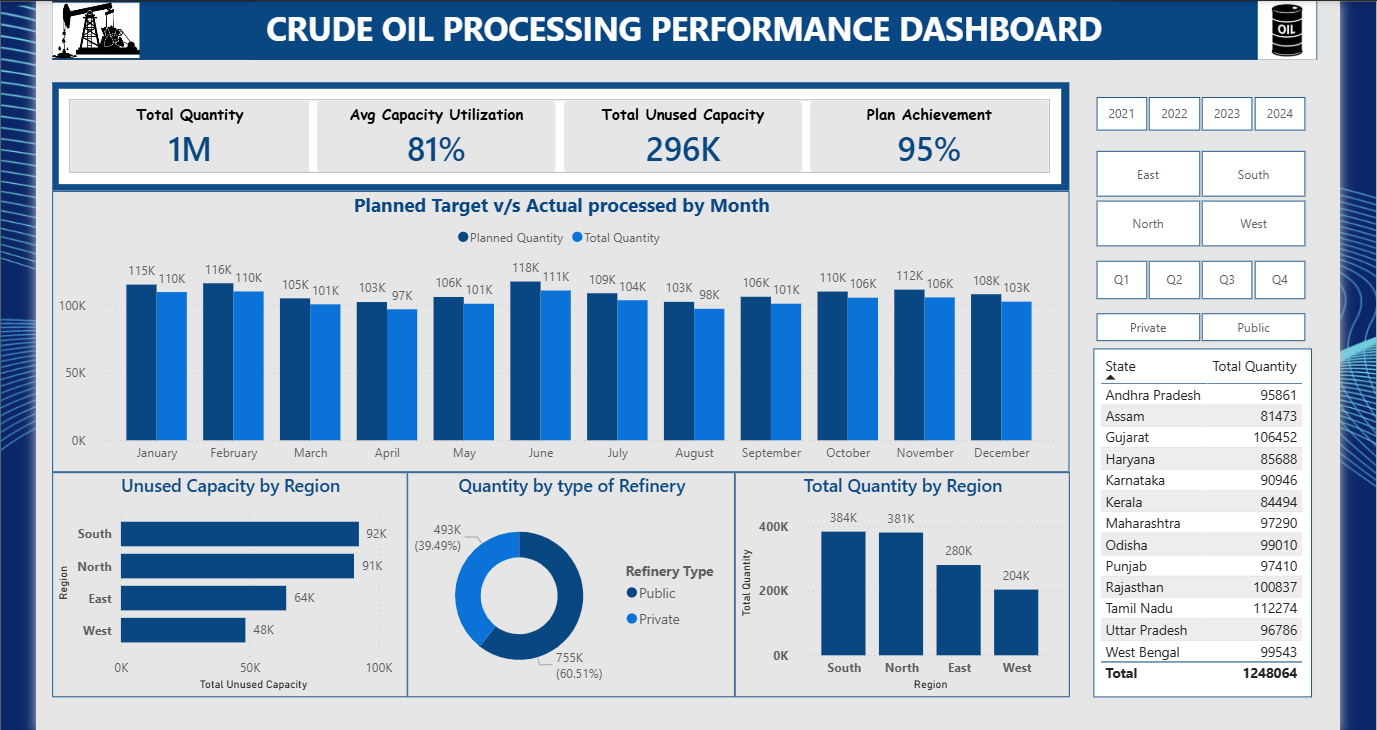

Layout of this report page (visuals, bound fields, positions):
{"tool":"powerbi","page":{"name":"Page 6","canvas":[1280,720],"ordinal":5},"visuals":[{"type":"clusteredColumnChart","title":"Planned Target v/s Actual processed by Month","fields":{"Category":["Crudeoil Data.Month Name"],"Y":["Sum(Crudeoil Data.Planned Quantity (000 Metric Tonnes))","Crudeoil Data.Total Quantity"]},"box":[16,186.5,998.8,276.1],"z":0},{"type":"donutChart","title":"Quantity by type of Refinery","fields":{"Category":["Crudeoil Data.Refinery Type"],"Y":["Crudeoil Data.Total Quantity"]},"box":[364.4,462.6,321.5,220.9],"z":1000},{"type":"slicer","fields":{"Values":["Crudeoil Data.Year"]},"box":[1014.7,87.1,255.2,46.6],"z":2000},{"type":"slicer","fields":{"Values":["Crudeoil Data.Quarter"]},"box":[1014.7,247.9,255.2,51.5],"z":3000},{"type":"slicer","fields":{"Values":["Crudeoil Data.Region"]},"box":[1014.7,126.4,255.2,121.5],"z":4000},{"type":"slicer","fields":{"Values":["Crudeoil Data.Refinery Type"]},"box":[1014.7,299.4,255.2,41.7],"z":5000},{"type":"clusteredBarChart","title":"Unused Capacity by Region","fields":{"Category":["Crudeoil Data.Region"],"Y":["Crudeoil Data.Total Unused Capacity"]},"box":[16,462.6,348.5,220.9],"z":6000},{"type":"tableEx","fields":{"Values":["Crudeoil Data.State","Crudeoil Data.Total Quantity"]},"box":[1038,341.1,214.7,342.3],"z":7000},{"type":"columnChart","fields":{"Category":["Crudeoil Data.Region"],"Y":["Crudeoil Data.Total Quantity"]},"box":[685.9,462.6,328.8,220.9],"z":8000},{"type":"cardVisual","fields":{"Data":["Crudeoil Data.Total Quantity","Crudeoil Data.Avg Capacity Utilization","Crudeoil Data.Total Unused Capacity","Crudeoil Data.Plan Achievement"]},"box":[16,79.8,998.8,106.7],"z":9000},{"type":"shape","box":[16,0,1241.7,57.7],"z":10000},{"type":"textbox","box":[214.7,0,842.9,57.7],"z":11000},{"type":"image","box":[16,0,85.9,57.7],"z":12000},{"type":"image","box":[1186.5,0,83.4,57.7],"z":13000}]}

Visuals, with their boxes on the page's 1280x720 design canvas (x1, y1, x2, y2). These are canvas units, not pixel positions in the 1377x730 screenshot, which may show the page scaled, cropped or inside an application window:
"Planned Target v/s Actual processed by Month" clusteredColumnChart: pyautogui.locateOnScreen(16, 186, 1015, 463)
"Quantity by type of Refinery" donutChart: pyautogui.locateOnScreen(364, 463, 686, 684)
slicer - Crudeoil Data.Year: pyautogui.locateOnScreen(1015, 87, 1270, 134)
slicer - Crudeoil Data.Quarter: pyautogui.locateOnScreen(1015, 248, 1270, 299)
slicer - Crudeoil Data.Region: pyautogui.locateOnScreen(1015, 126, 1270, 248)
slicer - Crudeoil Data.Refinery Type: pyautogui.locateOnScreen(1015, 299, 1270, 341)
"Unused Capacity by Region" clusteredBarChart: pyautogui.locateOnScreen(16, 463, 364, 684)
tableEx - Crudeoil Data.State x Crudeoil Data.Total Quantity: pyautogui.locateOnScreen(1038, 341, 1253, 683)
columnChart - Crudeoil Data.Region x Crudeoil Data.Total Quantity: pyautogui.locateOnScreen(686, 463, 1015, 684)
cardVisual - Crudeoil Data.Total Quantity x Crudeoil Data.Avg Capacity Utilization: pyautogui.locateOnScreen(16, 80, 1015, 186)
shape: pyautogui.locateOnScreen(16, 0, 1258, 58)
textbox: pyautogui.locateOnScreen(215, 0, 1058, 58)
image: pyautogui.locateOnScreen(16, 0, 102, 58)
image: pyautogui.locateOnScreen(1186, 0, 1270, 58)
